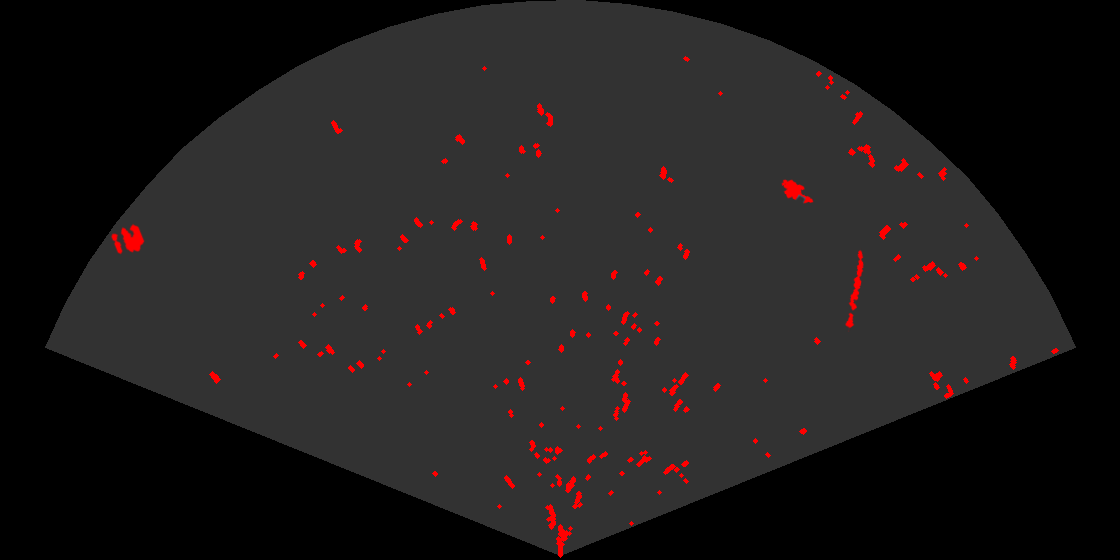AUV: (780, 178, 815, 205)
ball: (109, 222, 146, 256)
chain: (844, 248, 865, 332)
